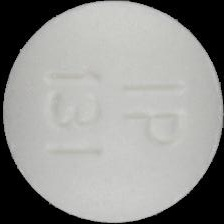53808-0272: (0, 0, 224, 224)
